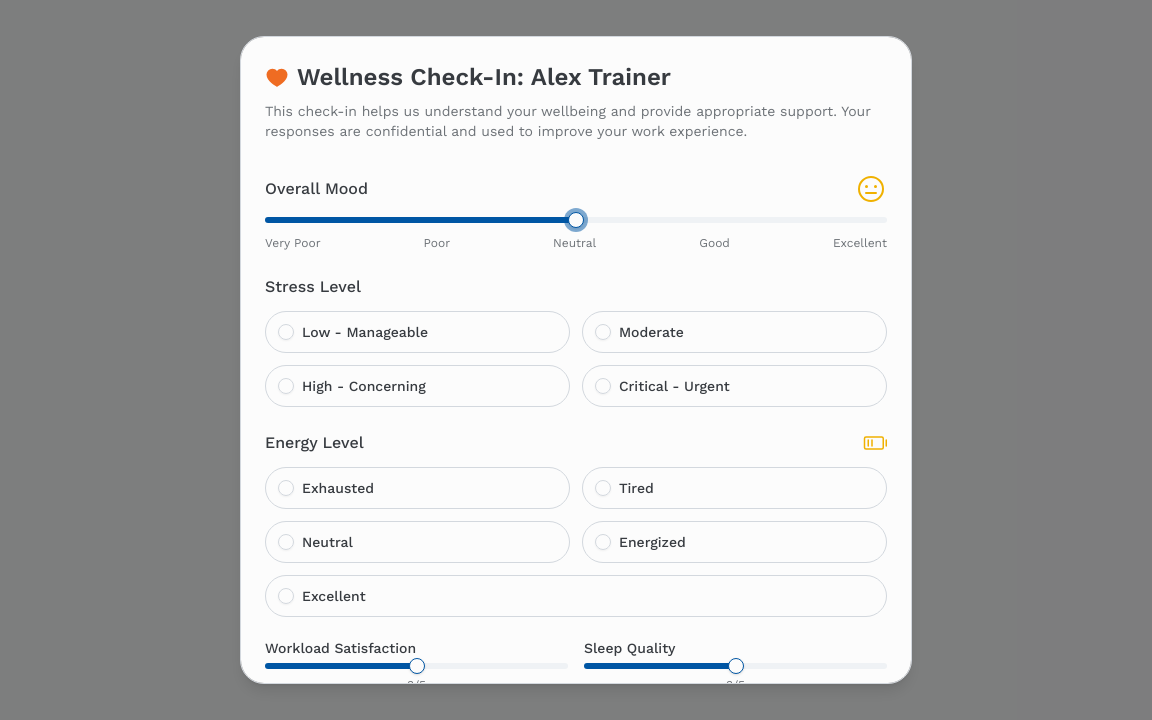
Scenario: WellnessCheckInDialog › renders energy icon variants for excellent, energized, and exhausted levels
Note: cover getEnergyIcon case 'excellent'
Click the 9th radio button named "excellent" at [286, 596], box [278, 588, 294, 604]
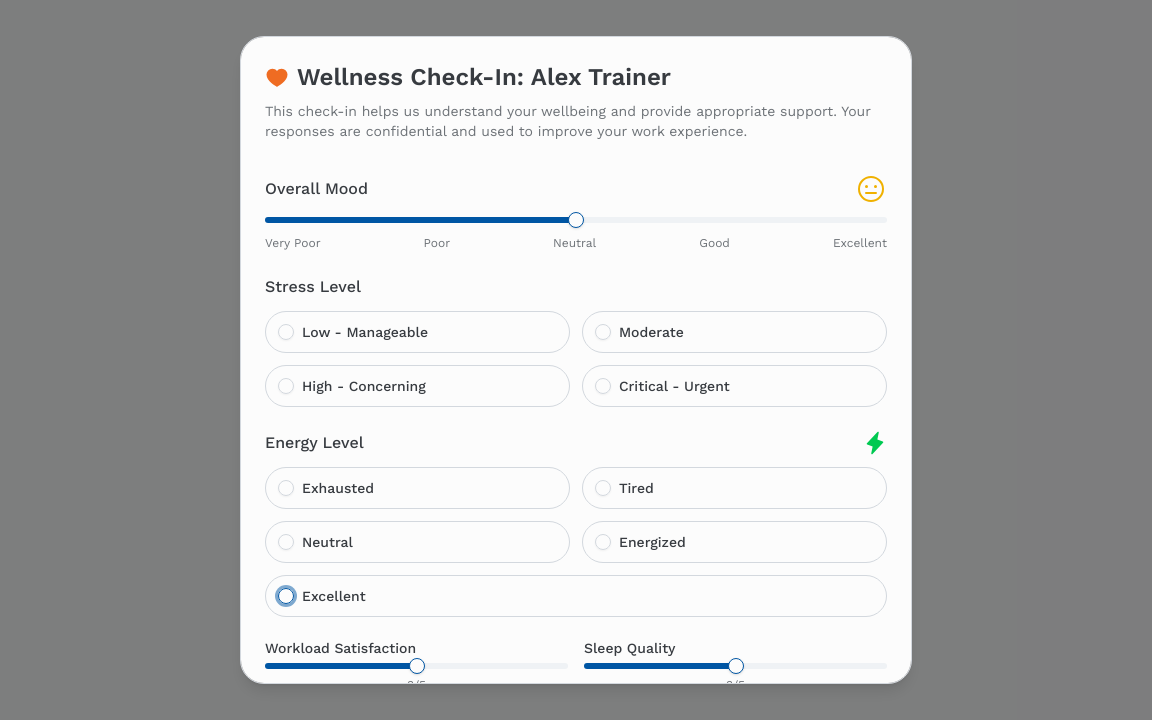
Check: the icon with test id "energy-icon-excellent" is shown, box [863, 431, 887, 455]
Note: cover getEnergyIcon case 'energized'
Click the radio button named "energized" next to "Energized" at [603, 542], box [595, 534, 611, 550]
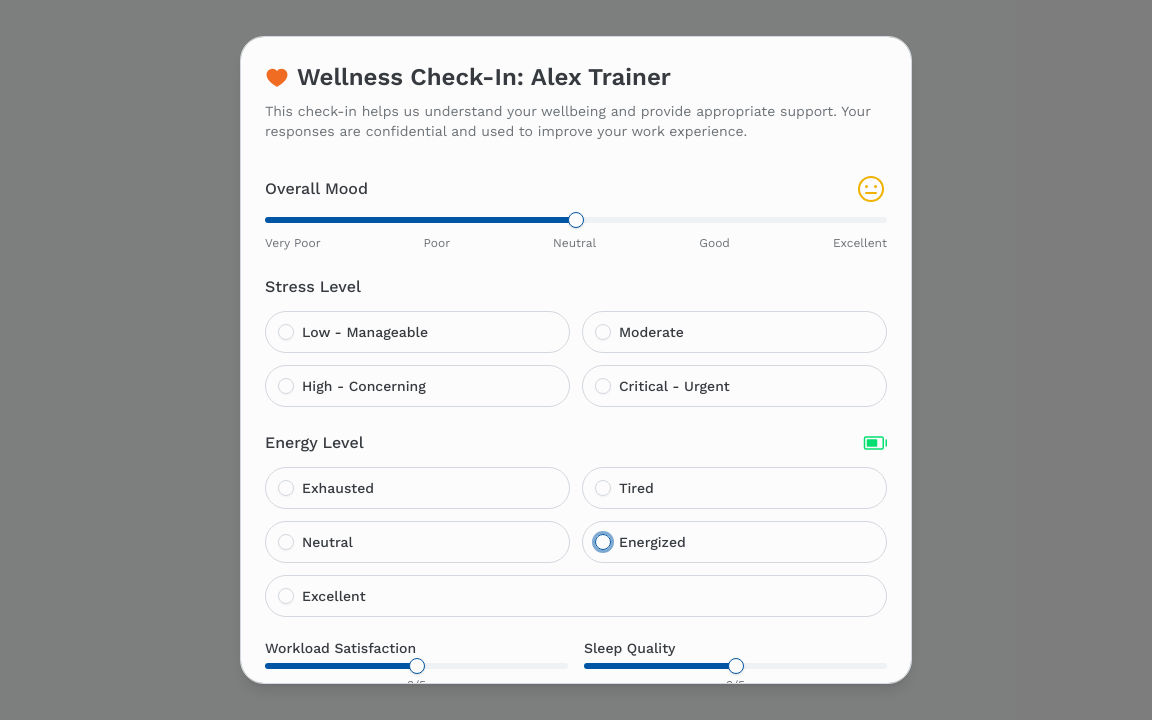
Check: the icon with test id "energy-icon-energized" is shown, box [863, 431, 887, 455]
Note: cover getEnergyIcon case 'exhausted'
Click the radio button named "exhausted" next to "Exhausted" at [286, 488], box [278, 480, 294, 496]
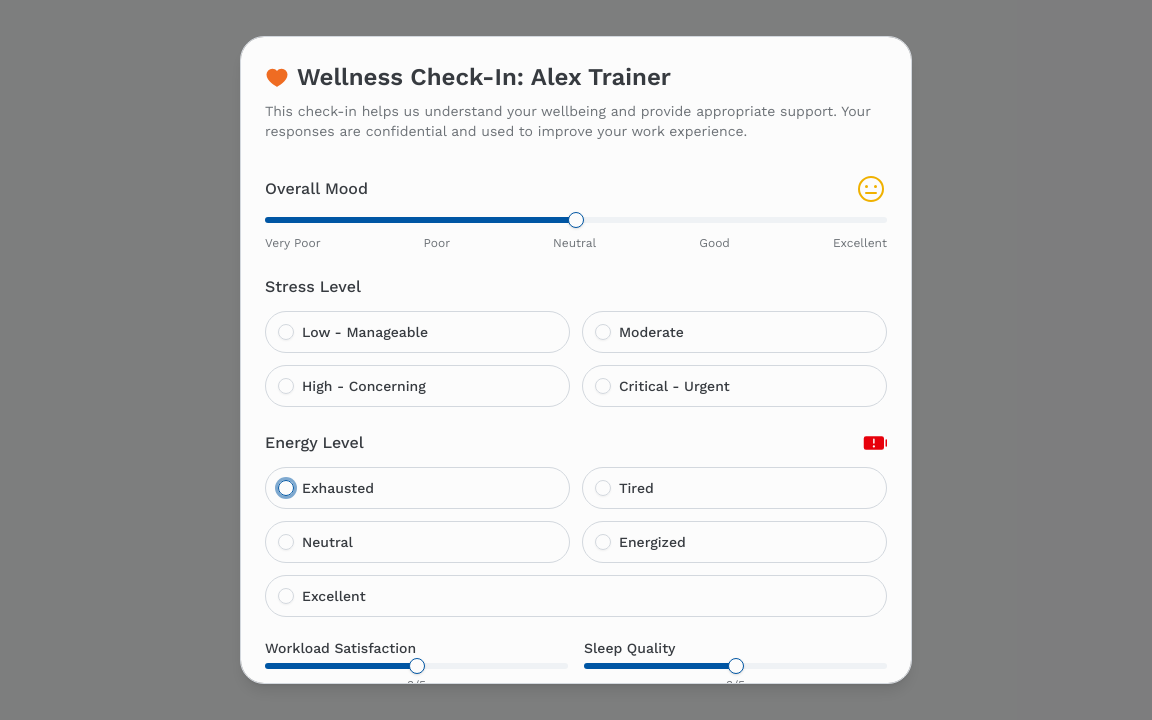
Check: the icon with test id "energy-icon-exhausted" is shown, box [863, 431, 887, 455]
